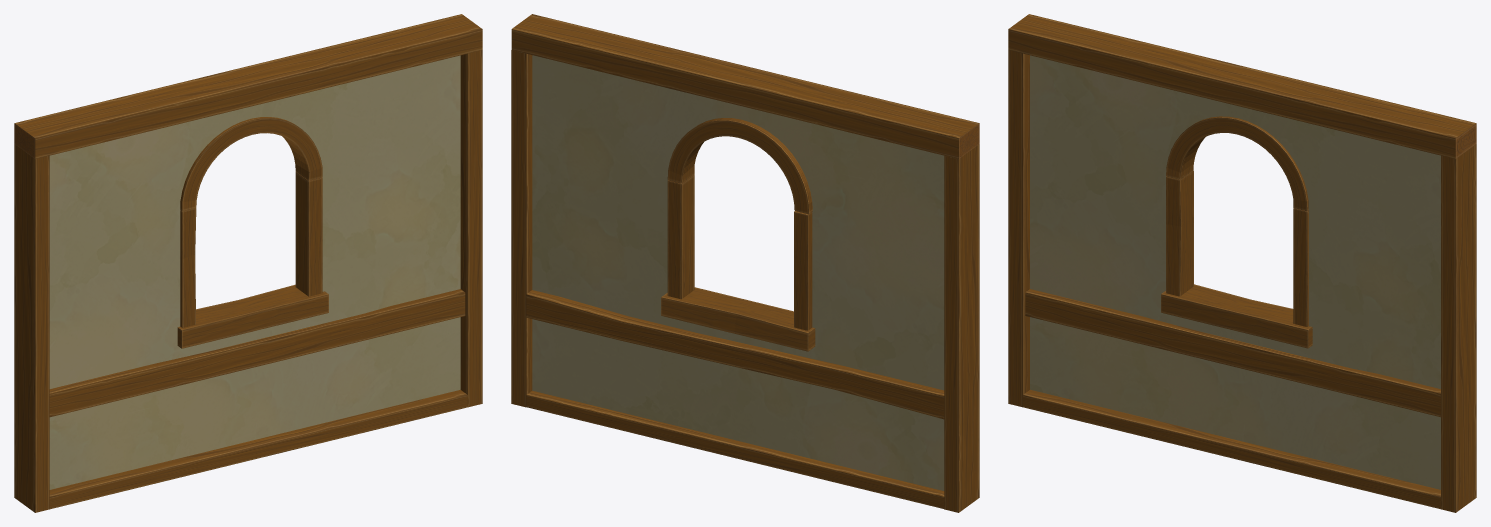
Rendered from SM_House_Wall_5x4_Window_C_02.fbx.
3 renders of one model, left to right at view 1: azimuth 30°, elevation 25°; view 2: azimuth 150°, elevation 25°; view 3: azimuth 330°, elevation 25°, orthographic.
Visible parts, largest first — view 1: SM_House_Wall_5x4_Window_C_02; view 2: SM_House_Wall_5x4_Window_C_02; view 3: SM_House_Wall_5x4_Window_C_02.
Part boxes in pixels (<box>): SM_House_Wall_5x4_Window_C_02: <box>14,14,482,512</box>; SM_House_Wall_5x4_Window_C_02: <box>511,14,979,512</box>; SM_House_Wall_5x4_Window_C_02: <box>1008,14,1476,512</box>.
Size of the model in its own units: 5 by 4 by 0.4216.
